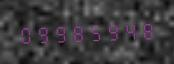eight: (68, 20, 84, 44), (136, 18, 152, 41)
five: (85, 20, 101, 43)
four: (119, 18, 135, 42)
nine: (34, 21, 50, 45), (51, 21, 67, 44), (102, 19, 118, 42)
zero: (17, 22, 33, 45)
